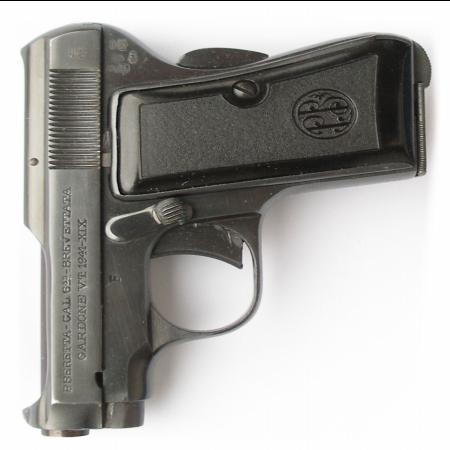Pistol: (5, 28, 436, 438)
